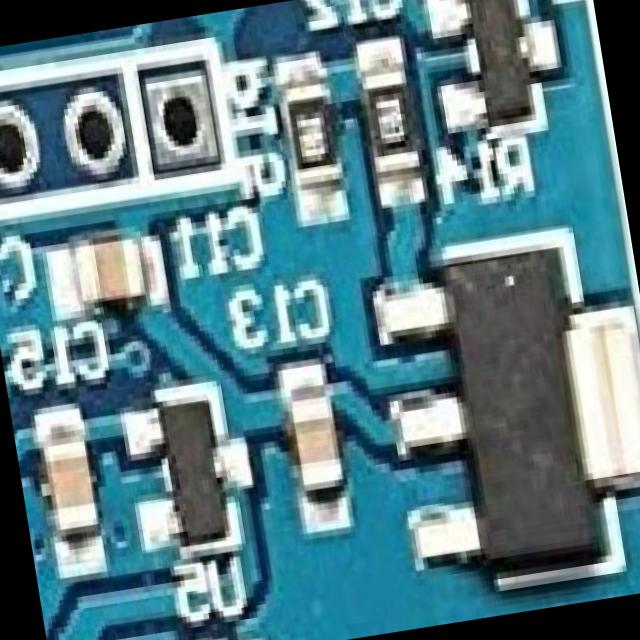IC: (358, 210, 640, 604)
capacitor: (39, 419, 104, 558), (286, 377, 352, 508), (63, 232, 162, 319)
resistor: (358, 60, 427, 188), (282, 72, 346, 194)
transistor: (119, 377, 263, 572), (419, 0, 567, 151)
